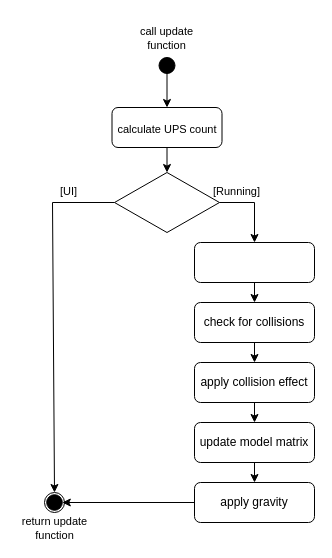
This 332x558 diagram has some shape labels left out. Here are the shapes that lost their labels. From the top down, the centre of each, then its label:
At (x=167, y=202): "application state".
At (x=254, y=262): "sort hitboxes".
